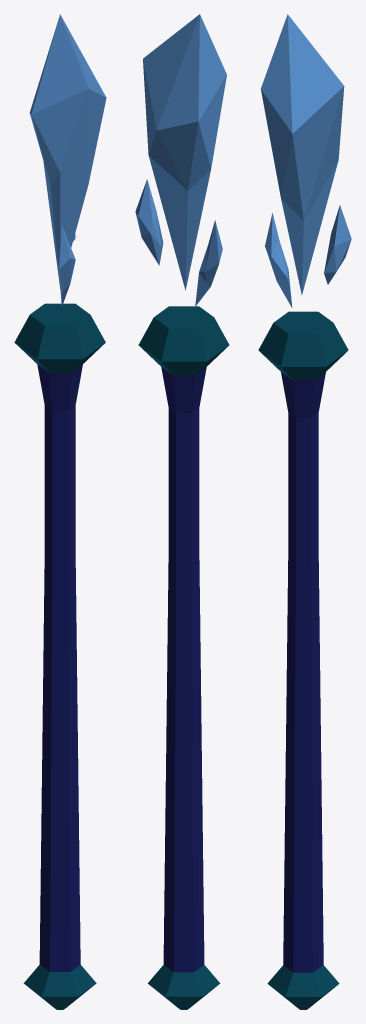
File: Staff_04.obj
3 views of the same model, side by side, from view 1: azimuth 90°, elevation 25°; view 2: azimuth 150°, elevation 25°; view 3: azimuth 330°, elevation 25° (orthographic).
Parts seen in each view (by area): view 1: Staff_04_Circle.011; view 2: Staff_04_Circle.011; view 3: Staff_04_Circle.011.
Boxes of the visible parts, x1,y1,x2,y2 form: Staff_04_Circle.011: (14,14,106,1009); Staff_04_Circle.011: (135,14,229,1009); Staff_04_Circle.011: (258,14,351,1009).
Bounding box in the file's own units: 1.07 × 12.34 × 1.03.
